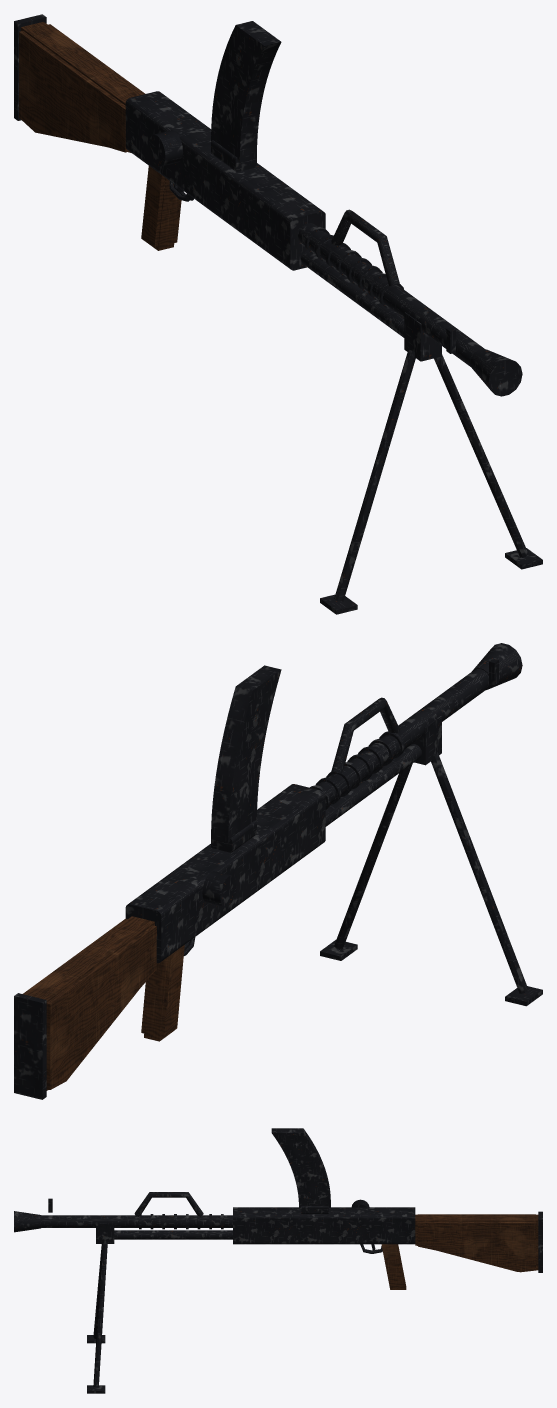
The model's file is bren.glb.
3 renders of one model, top to bottom at view 1: azimuth 30°, elevation 25°; view 2: azimuth 150°, elevation 25°; view 3: azimuth 270°, elevation 25°, orthographic. The views are drawn at different scales.
Visible parts, largest first — view 1: Bren_MkI; view 2: Bren_MkI; view 3: Bren_MkI.
Part boxes in pixels (x1=…): Bren_MkI: x1=14, y1=14, x2=542, y2=614; Bren_MkI: x1=14, y1=643, x2=542, y2=1099; Bren_MkI: x1=14, y1=1128, x2=542, y2=1393.
Bounding box in the file's own units: 0.29 × 0.568 × 1.16.
3 materials, 2 textured.
